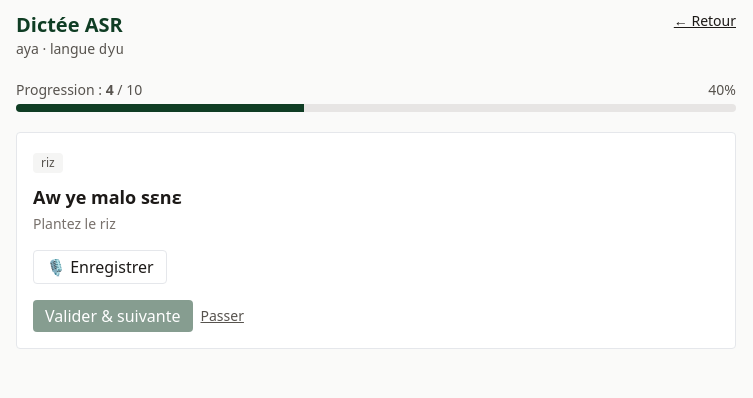
it: DictationView — refus de permission micro › affiche une consigne et ne demarre aucun enregistrement
Click the button "🎙️ Enregistrer": (100,267) left=33, top=250, right=167, bottom=284
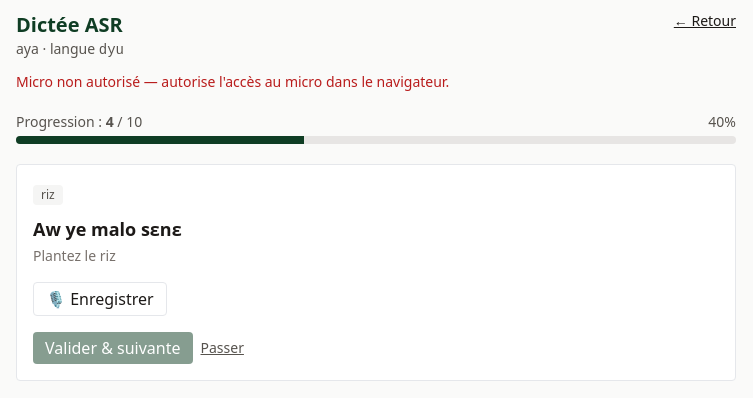
Now the text "Micro non autorisé" is shown, box left=16, top=72, right=449, bottom=91
